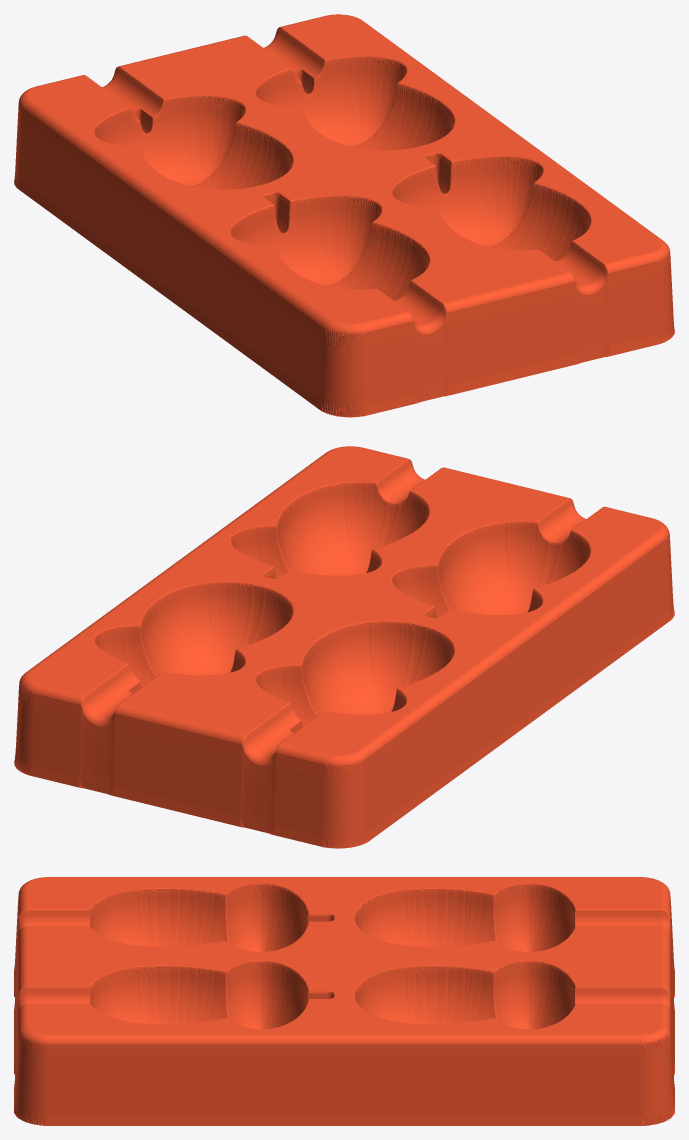
Rendered from mold.glb.
3 renders of one model, top to bottom at view 1: azimuth 30°, elevation 25°; view 2: azimuth 150°, elevation 25°; view 3: azimuth 270°, elevation 25°, orthographic.
Parts seen in each view (by area): view 1: geometry_0; view 2: geometry_0; view 3: geometry_0.
Part boxes in pixels (x1,y1,x2,y2): geometry_0: (14, 14, 674, 417); geometry_0: (14, 446, 674, 848); geometry_0: (14, 877, 674, 1125).
Bounding box in the file's own units: 0.1029 × 0.0245 × 0.171.
